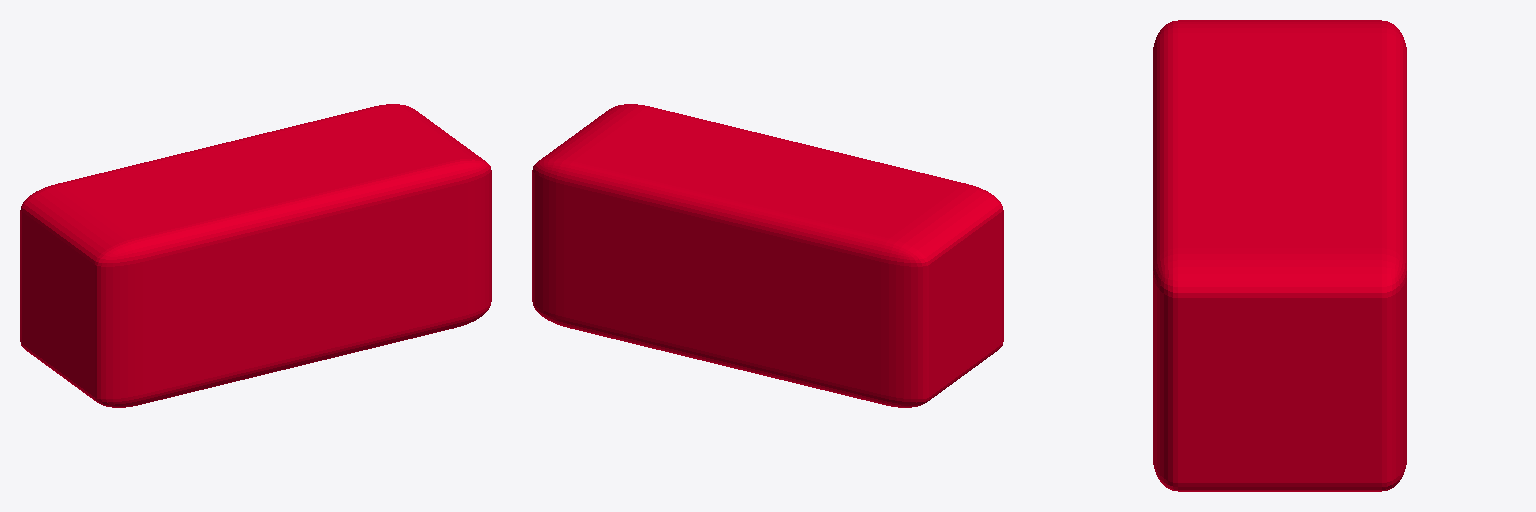
URDF robot description (block.urdf):
<?xml version="1.0" ?>
<robot name="block.urdf">

  <link name="block">
    <contact>
    	<friction_anchor/>
    	   <lateral_friction value="1.0"/>
    </contact>
    <inertial>
      <origin rpy="0 0 0" xyz="0 0 0"/>
       <mass value=".1"/>
       <inertia ixx="1" ixy="0" ixz="0" iyy="1" iyz="0" izz="1"/>
    </inertial>
    <visual>
      <origin rpy="0 0 0" xyz="0 0 0"/>
      <geometry>
				<mesh filename="block_rounded.obj" scale="1.0 1.0 1.0"/>
      </geometry>
       <material name="red">
        <color rgba="0.9 0 0.2 1.0"/>
      </material>
    </visual>
    <collision>
      <origin rpy="0 0 0" xyz="0 0 0"/>
      <geometry>
				<mesh filename="block_rounded.obj" scale="1.0 1.0 1.0"/>
      </geometry>
    </collision>
  </link>


</robot>

--- What the picture shows (computed from the rendered views, not written in the file) ---
The picture shows the robot from 3 angles, left to right: view 1: azimuth 30°, elevation 25°; view 2: azimuth 150°, elevation 25°; view 3: azimuth 270°, elevation 25°; orthographic projection.
Model block.urdf with 1 links and 0 joints (none), rooted at block, posed every joint at zero.
Visible links, largest first — view 1: block; view 2: block; view 3: block.
Link boxes in pixels (left/top/right/bottom): block: left=20, top=104, right=491, bottom=407; block: left=532, top=104, right=1003, bottom=407; block: left=1153, top=20, right=1406, bottom=491.
Bounding box of the posed robot: 0.15 × 0.06 × 0.06 m (x, y, z).
1 mesh visuals loaded from 1 distinct referenced files (1 OBJ).